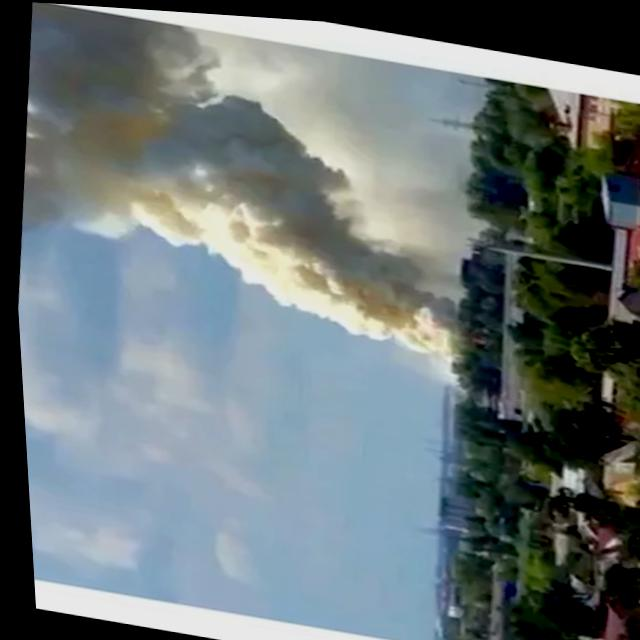Smoke: (2, 0, 475, 350)
